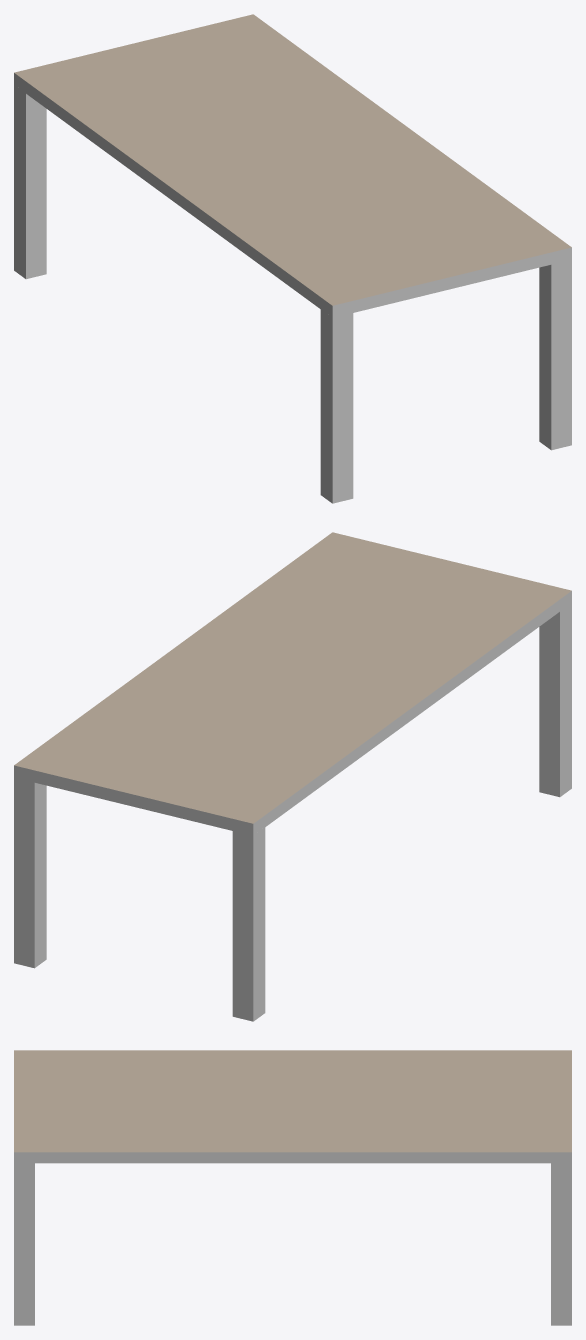
File: GrandeTable_1.fbx
3 renders of one model, top to bottom at view 1: azimuth 30°, elevation 25°; view 2: azimuth 150°, elevation 25°; view 3: azimuth 270°, elevation 25°, orthographic. The views are drawn at different scales.
Visible parts, largest first — view 1: pCube43, pCube47, pCube46, pCube49; view 2: pCube43, pCube49, pCube48, pCube47; view 3: pCube43, pCube48, pCube46.
Boxes of the visible parts, bbox=[...] form: pCube43: bbox=[14, 14, 571, 317]; pCube47: bbox=[320, 309, 353, 503]; pCube46: bbox=[539, 259, 571, 450]; pCube49: bbox=[14, 84, 46, 279]; pCube43: bbox=[14, 532, 571, 835]; pCube49: bbox=[232, 827, 265, 1021]; pCube48: bbox=[14, 777, 46, 968]; pCube47: bbox=[539, 602, 571, 797]; pCube43: bbox=[14, 1050, 571, 1163]; pCube48: bbox=[551, 1162, 571, 1325]; pCube46: bbox=[14, 1162, 34, 1325].
Size of the model in its own units: 50.06 by 39.53 by 115.
